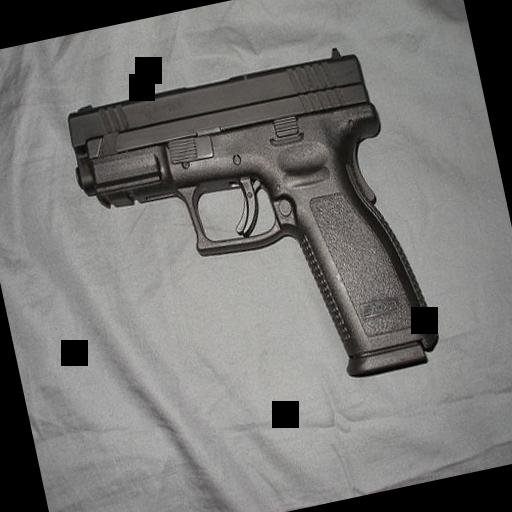Handgun: (59, 36, 444, 428)
